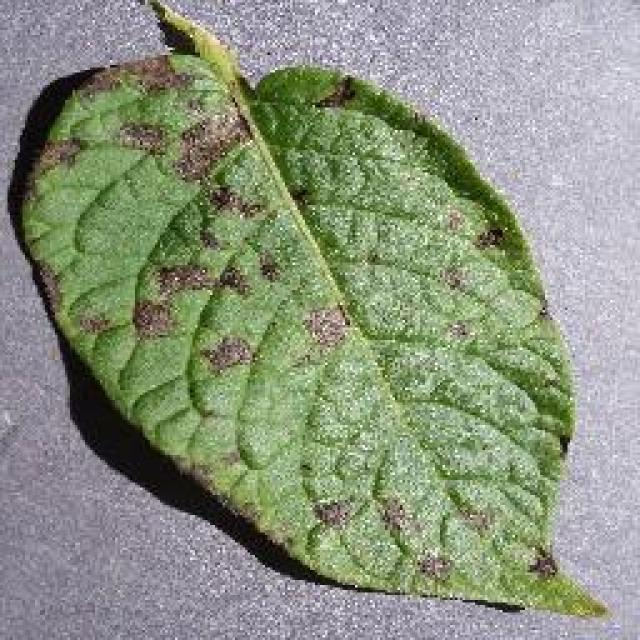Potato___Early_blight: (17, 0, 611, 618)
